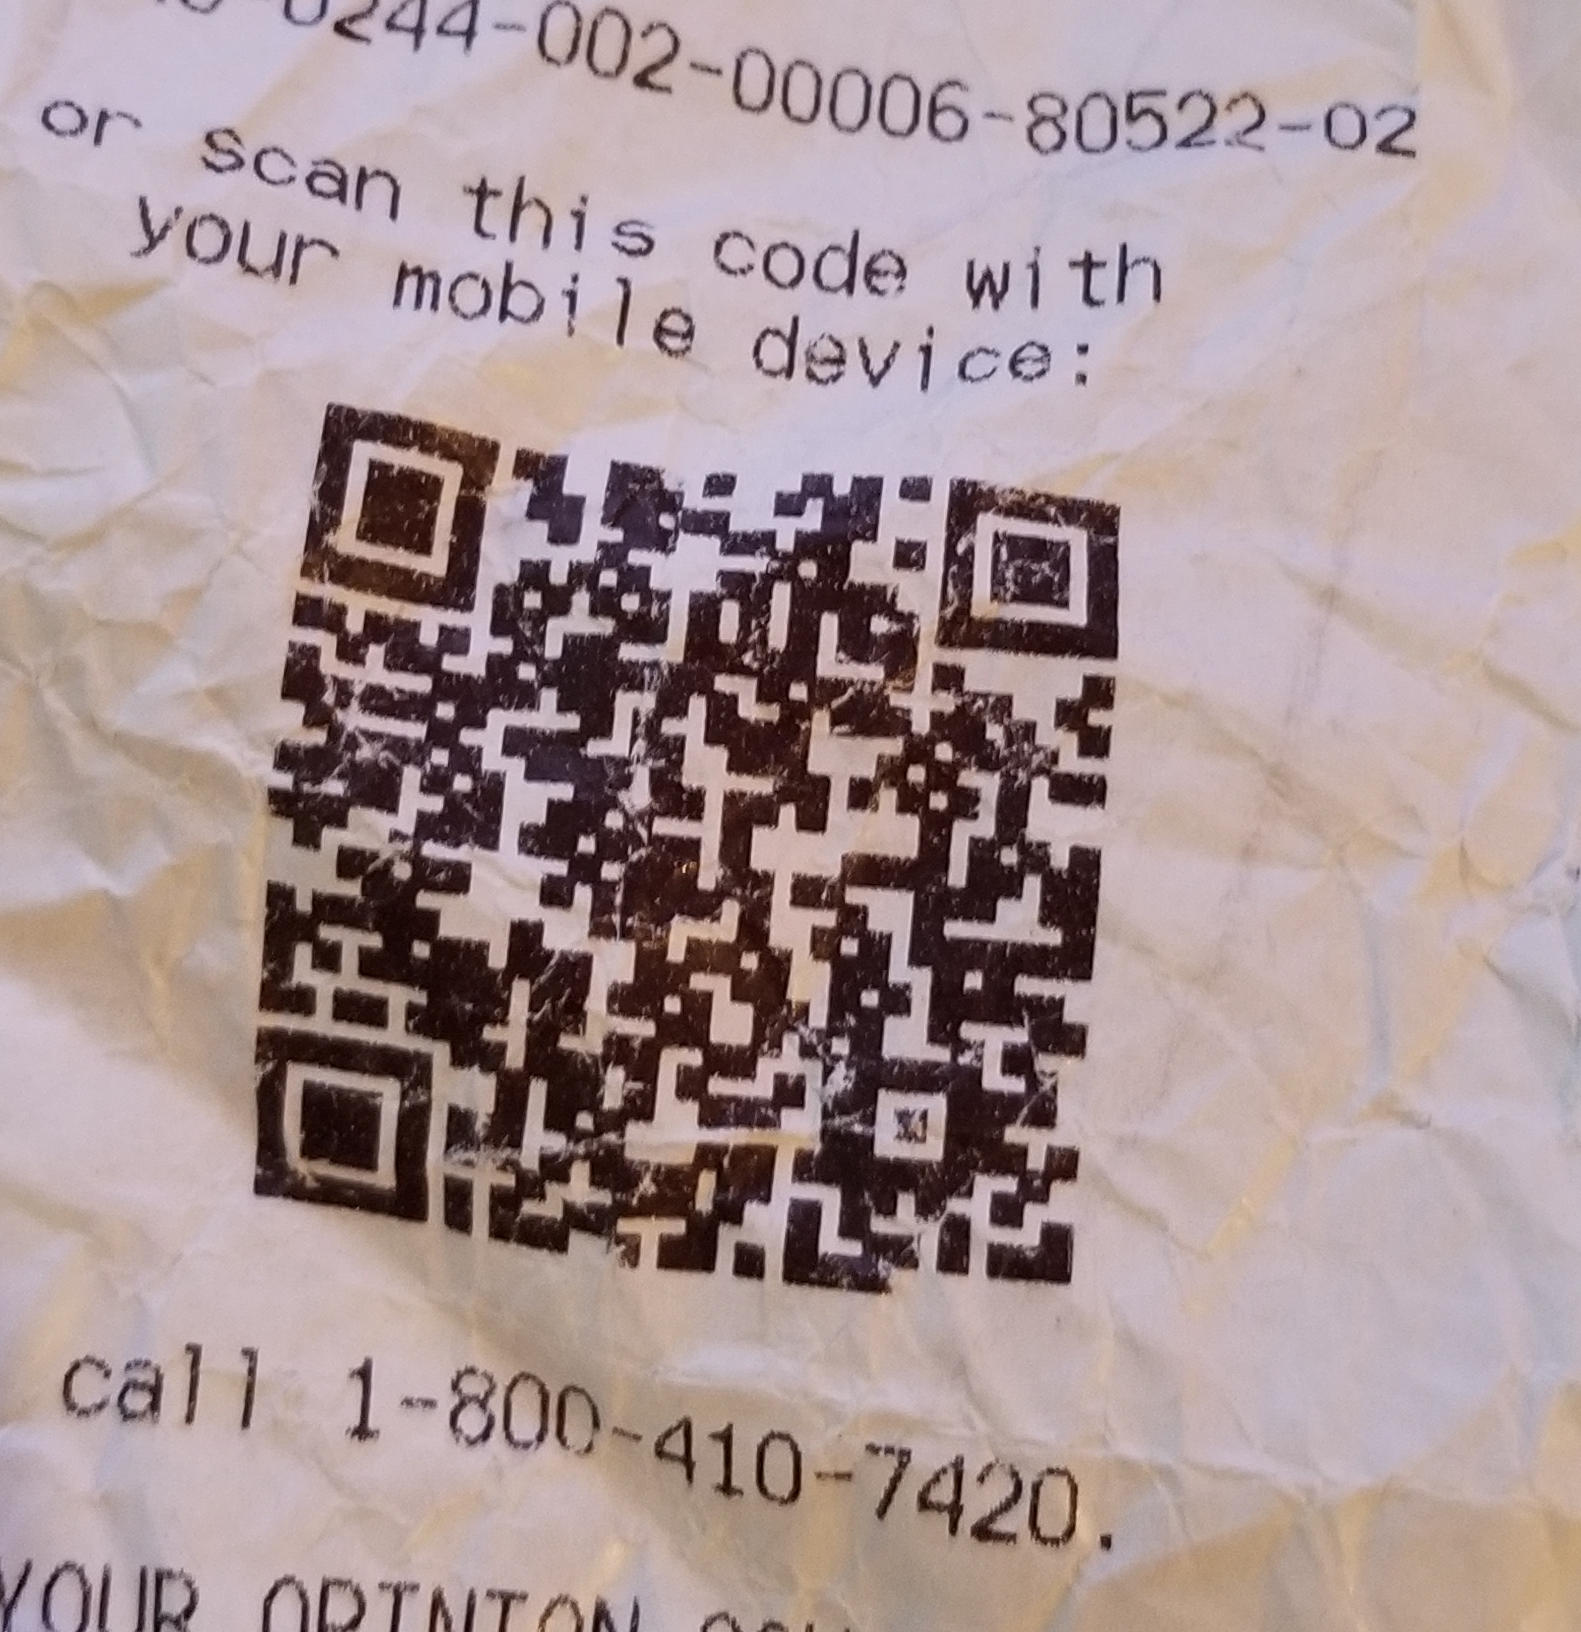QR_CODE: (227, 374, 1151, 1348)
